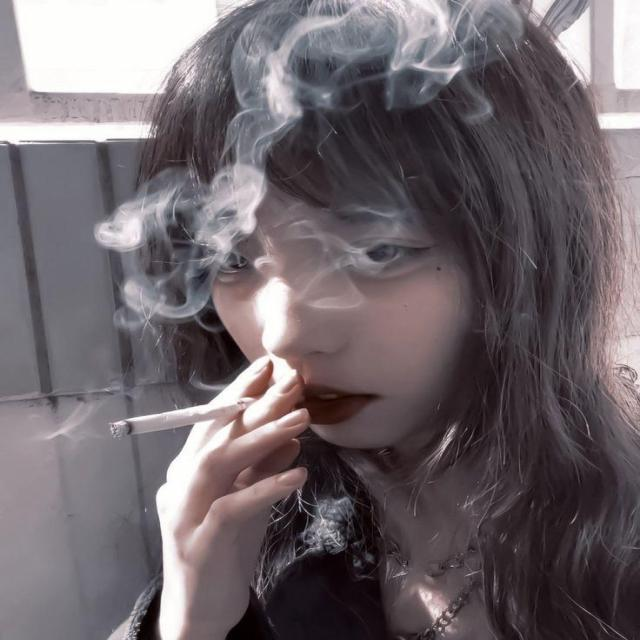cigarette: (63, 380, 300, 458)
